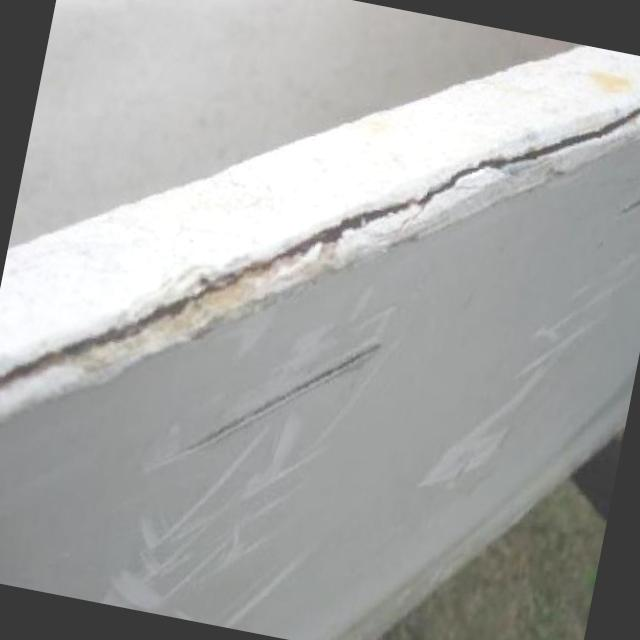crack: (0, 99, 640, 393), (149, 335, 383, 473), (608, 195, 640, 224)
